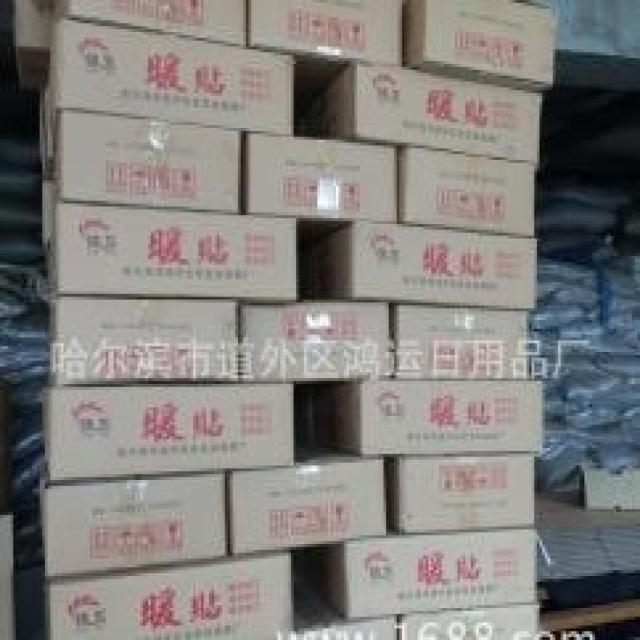box: (50, 20, 296, 137), (45, 381, 294, 483), (45, 204, 299, 303), (50, 553, 294, 640), (339, 64, 542, 163), (42, 471, 225, 579), (53, 111, 241, 212), (344, 527, 540, 620), (339, 218, 537, 308), (50, 297, 241, 384), (227, 457, 386, 559), (344, 378, 545, 454), (402, 0, 555, 93), (246, 134, 399, 221), (397, 145, 537, 236), (238, 300, 391, 381), (399, 454, 537, 535), (246, 0, 402, 67), (391, 305, 532, 378), (53, 0, 246, 47), (399, 602, 542, 640), (296, 617, 399, 640)
